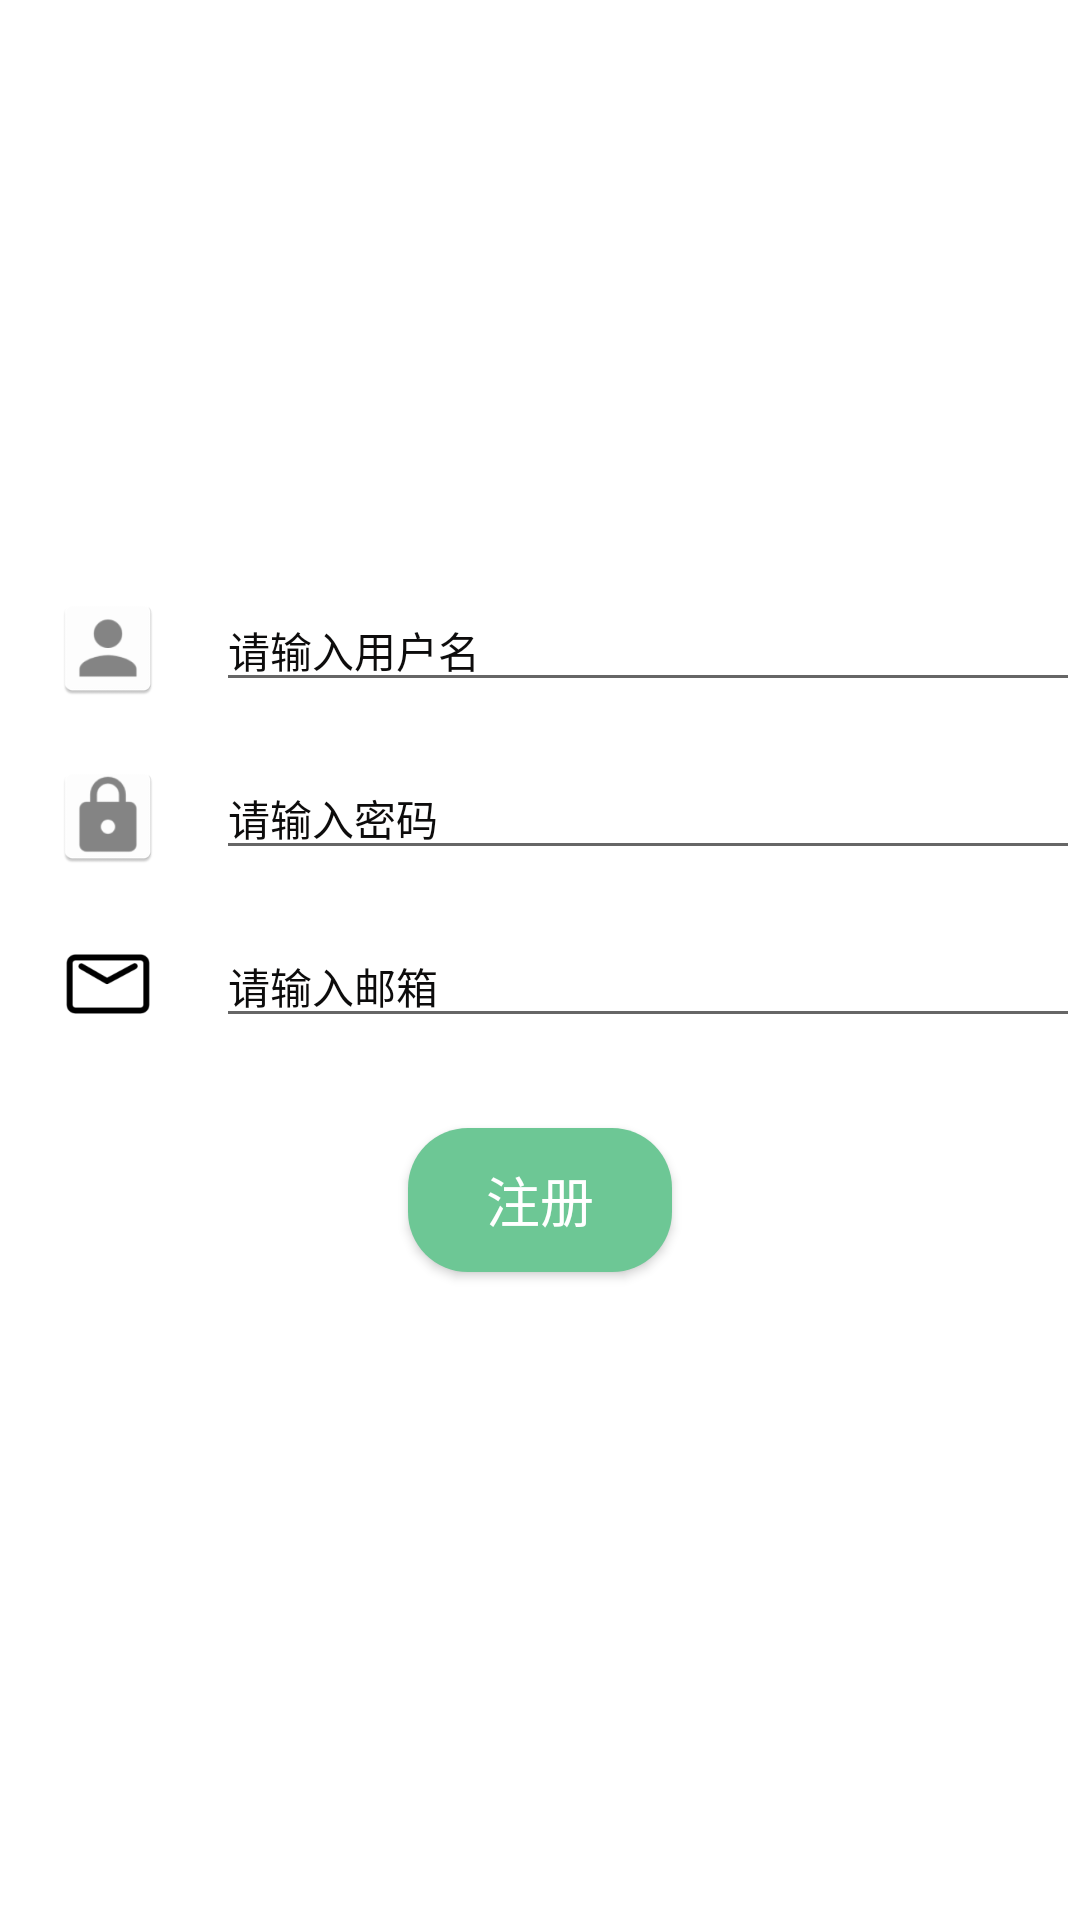

Icon bounding boxes for this 1080×1920 phone screenshot, format (x1, y1, x2, y2):
email: (66, 954, 150, 1014)
password: (65, 776, 151, 861)
user: (65, 610, 151, 693)
